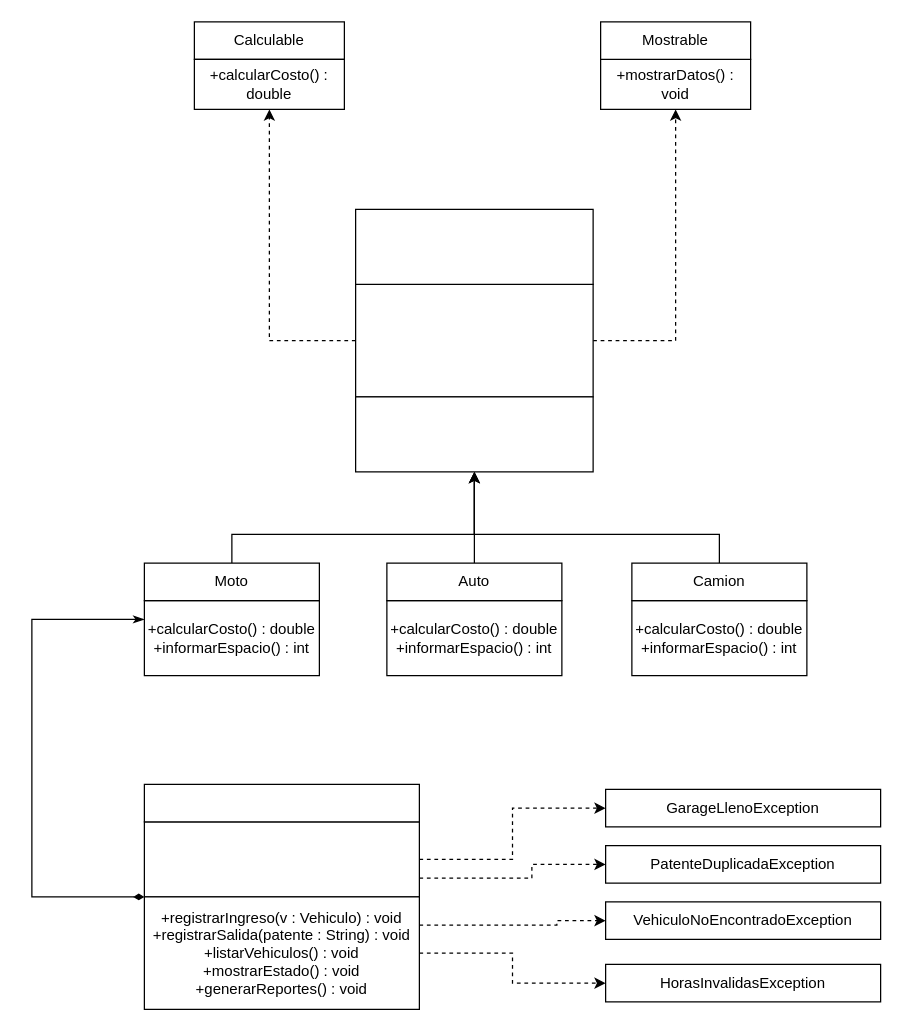
Some shapes in this 903 by 1031 pixel diagram are drawn without their labels. The centre of each missing label's shape, as x and y in pixels:
"+calcularCosto() : double +informarEspacio() : int +mostrarDatos() : void" belongs at pixel 473 434.
"-capacidadMaxima : int -vehiculos : ArrayList<Vehiculo>" belongs at pixel 281 859.
"-patente : String -marca : String -modelo : String -horasEstimadas : int" belongs at pixel 473 340.
"Garage" belongs at pixel 281 802.
"Vehiculo" belongs at pixel 473 246.
